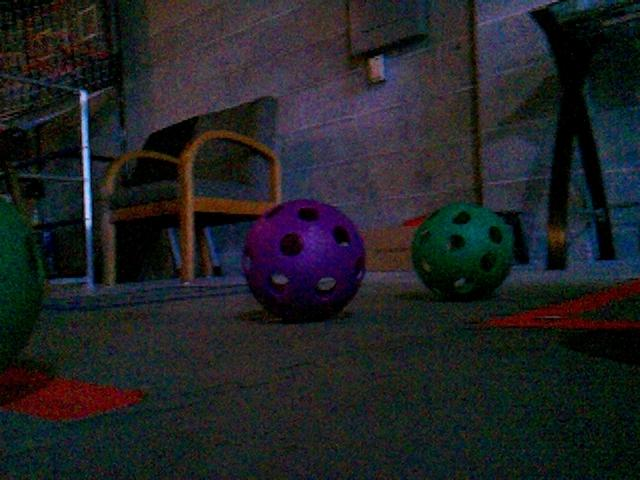Green: (409, 201, 517, 299), (0, 195, 44, 378)
Purple: (240, 199, 366, 321)
